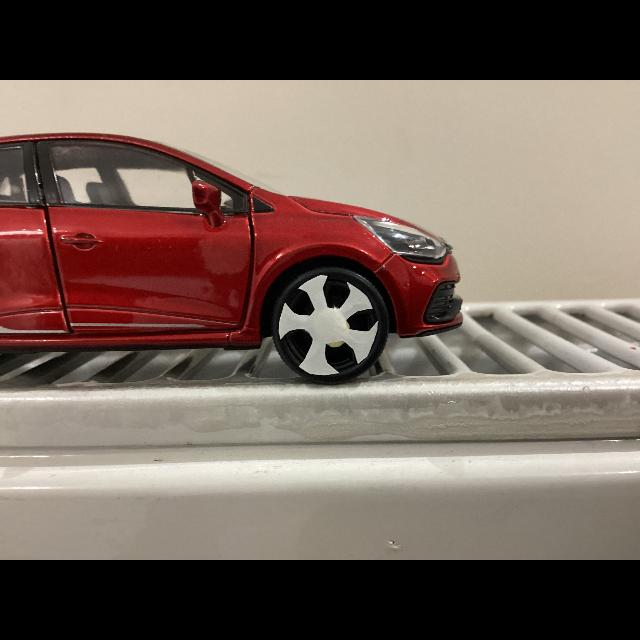Yanlis_Jant: (278, 276, 378, 376)
